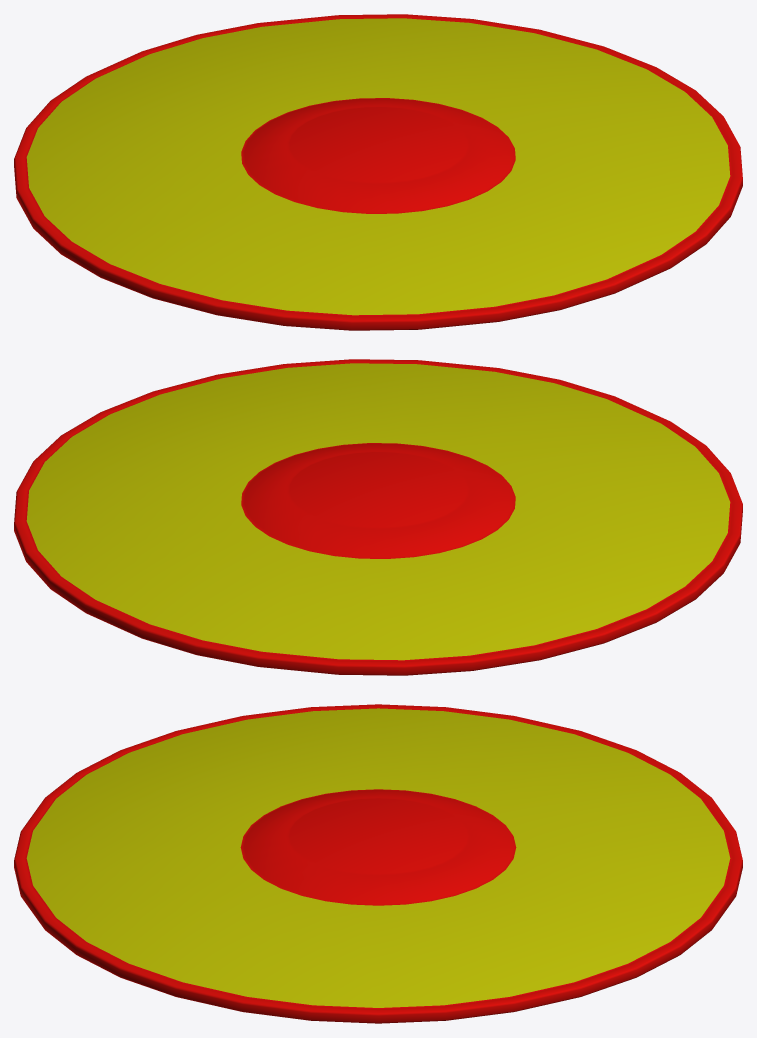
The model's file is Shield_low.fbx.
3 renders of one model, top to bottom at view 1: azimuth 30°, elevation 25°; view 2: azimuth 150°, elevation 25°; view 3: azimuth 270°, elevation 25°, orthographic.
Visible parts, largest first — view 1: Shield_low; view 2: Shield_low; view 3: Shield_low.
Boxes of the visible parts, left/top/right/bottom form: Shield_low: left=14, top=14, right=742, bottom=330; Shield_low: left=14, top=359, right=742, bottom=675; Shield_low: left=14, top=704, right=742, bottom=1023.
Size of the model in its own units: 1.05 by 0.0755 by 1.05.
